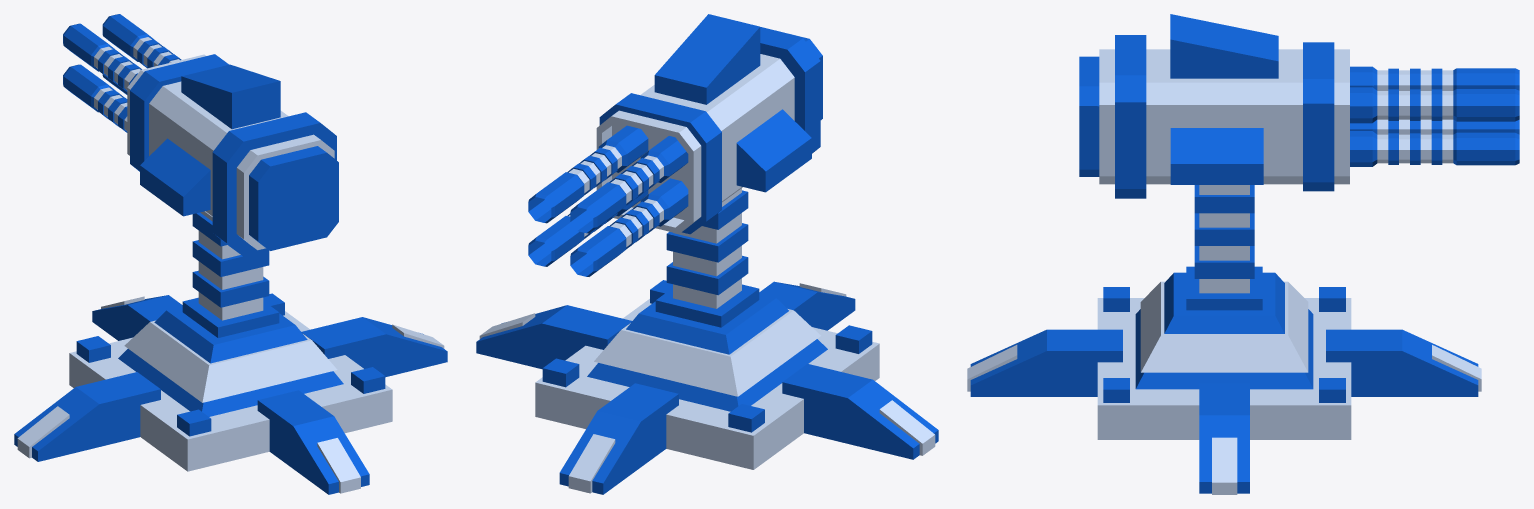
File: Turret_3_A.fbx
The picture shows the model from 3 angles, left to right: view 1: azimuth 30°, elevation 25°; view 2: azimuth 150°, elevation 25°; view 3: azimuth 270°, elevation 25°; orthographic projection. The views are drawn at different scales.
Visible parts, largest first — view 1: TurretBase3A, TurretHead3A, TurretBarrel3ATopRight, TurretBarrel3ABotRight, TurretBarrel3ATopLeft; view 2: TurretBase3A, TurretHead3A, TurretBarrel3ATopLeft, TurretBarrel3ABotRight, TurretBarrel3ATopRight, TurretBarrel3ABotLeft; view 3: TurretBase3A, TurretHead3A, TurretBarrel3ABotLeft, TurretBarrel3ATopLeft, TurretBarrel3ATopRight, TurretBarrel3ABotRight.
Boxes of the visible parts, x1,y1,x2,y2 form: TurretBase3A: (14, 211, 447, 494); TurretHead3A: (127, 54, 338, 256); TurretBarrel3ATopRight: (63, 23, 141, 91); TurretBarrel3ABotRight: (63, 64, 127, 132); TurretBarrel3ATopLeft: (102, 14, 181, 68); TurretBase3A: (476, 188, 938, 494); TurretHead3A: (596, 14, 822, 234); TurretBarrel3ATopLeft: (528, 125, 648, 223); TurretBarrel3ABotRight: (570, 178, 688, 276); TurretBarrel3ATopRight: (570, 136, 688, 233); TurretBarrel3ABotLeft: (528, 172, 648, 266); TurretBase3A: (967, 185, 1481, 494); TurretHead3A: (1079, 14, 1349, 198); TurretBarrel3ABotLeft: (1350, 131, 1519, 166); TurretBarrel3ATopLeft: (1350, 87, 1519, 123); TurretBarrel3ATopRight: (1350, 66, 1519, 90); TurretBarrel3ABotRight: (1350, 119, 1519, 134).
Bounding box in the file's own units: 40.54 × 31.26 × 43.53.
1 material, 1 textured.
